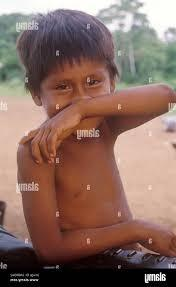Human: (6, 10, 173, 252)
